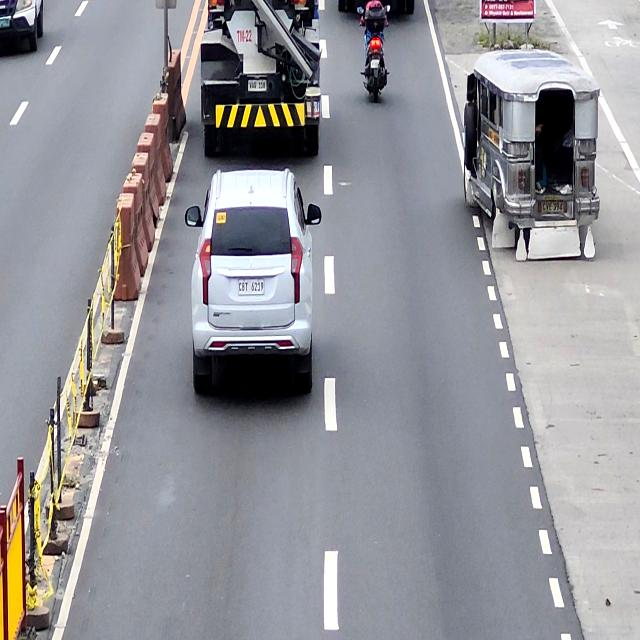Car: (184, 172, 321, 396)
Jeep: (464, 47, 600, 262)
License-Plate: (238, 280, 264, 298), (541, 200, 566, 216), (247, 79, 268, 93), (370, 58, 380, 68)
Motorcycle: (357, 2, 391, 101)
Truck: (200, 0, 323, 159)
